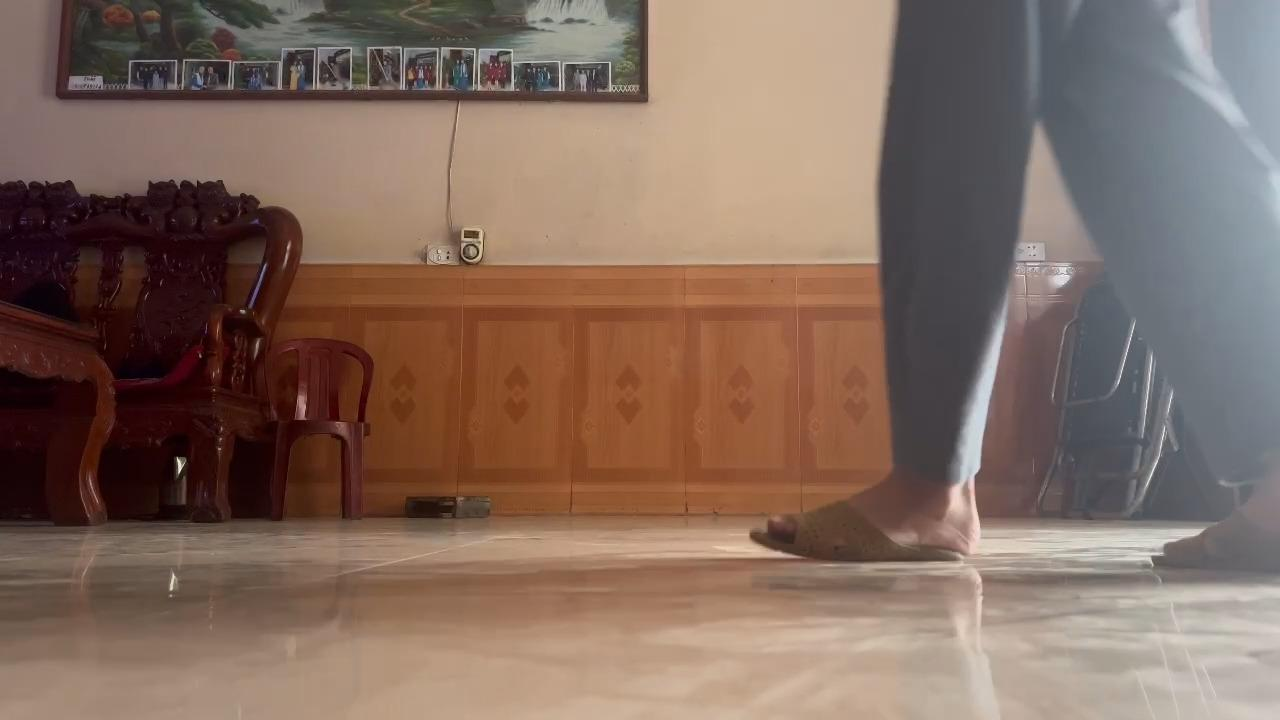no-boot: (740, 490, 989, 568), (1147, 507, 1280, 581)
